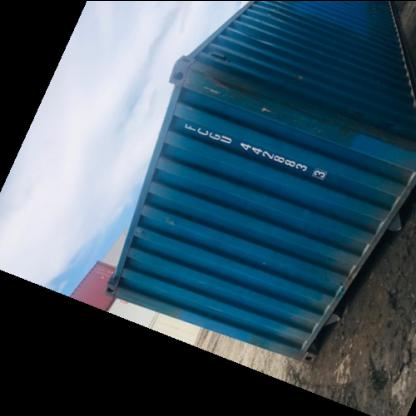Damage: (194, 66, 290, 122), (260, 2, 292, 30)
